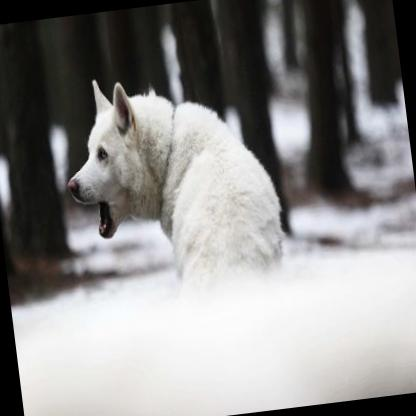Eskimo_dog: (54, 55, 289, 306)
